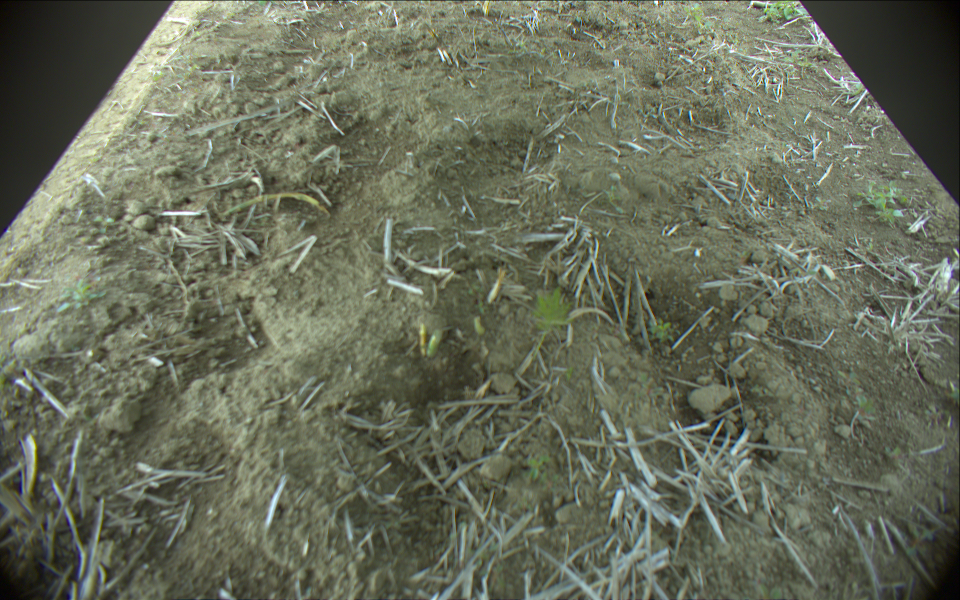aspa: (217, 193, 331, 218), (426, 328, 442, 356)
